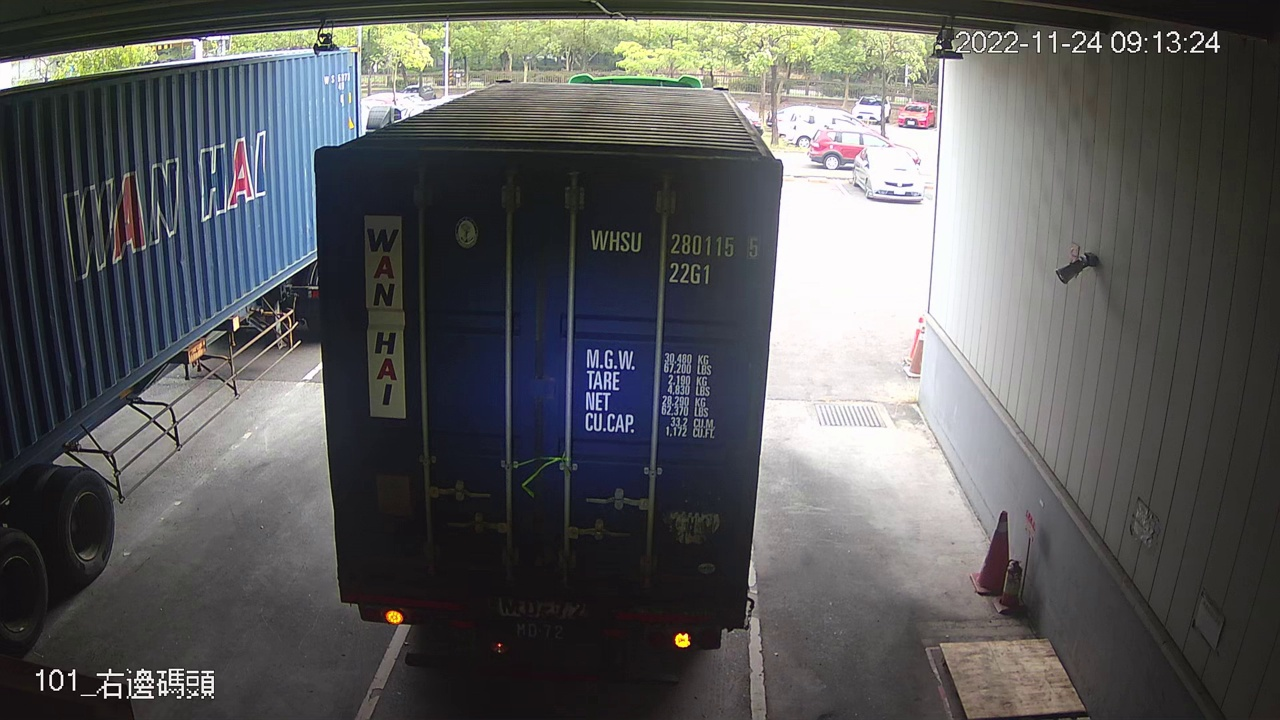container: (584, 223, 766, 290)
